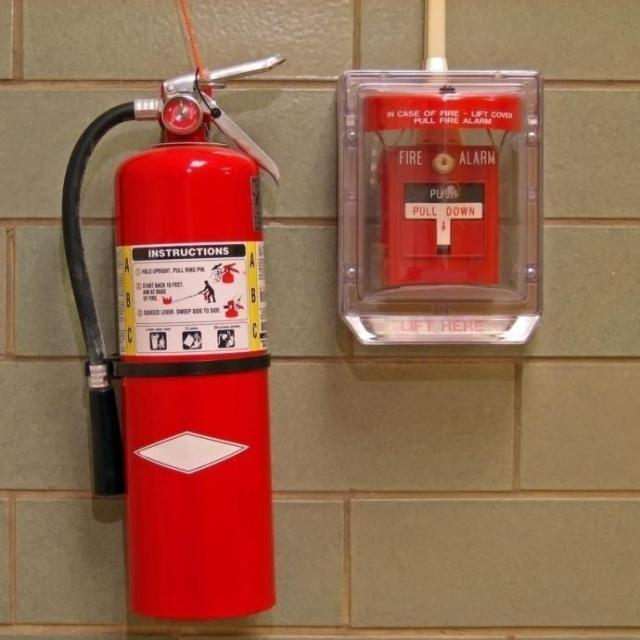fire_extinguisher: (55, 48, 288, 627)
